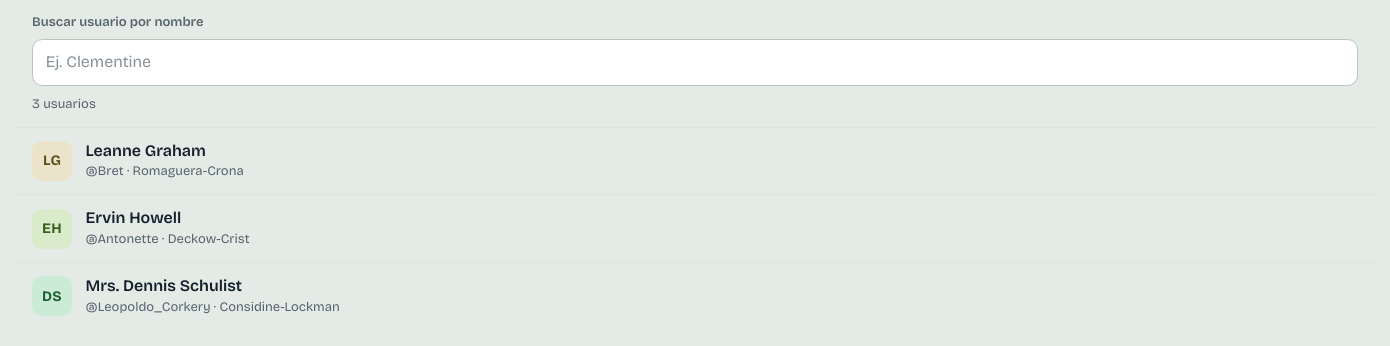
UserList › filtra por nombre al escribir, sin importar mayúsculas
Expected: the number of list items is 3, [12,128,1378,194]; [12,194,1378,262]; [12,262,1378,330]
Type "ERVIN" into the search field labelled "Buscar usuario por nombre" at (695, 62), box [32,39,1358,86]
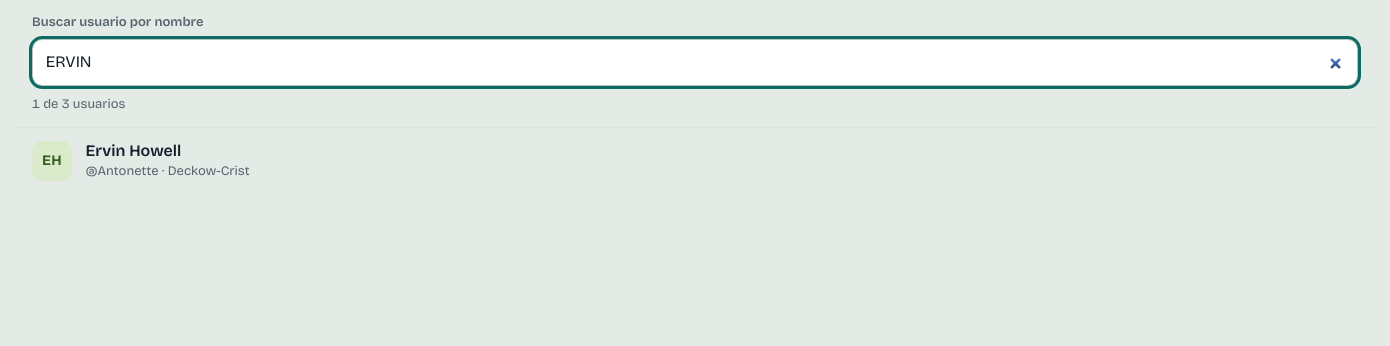
Expected: the number of list items is 1, [12,128,1378,194]
Expected: the button "Leanne Graham" is gone
Expected: the message reads "1 de 3 usuarios", [32,96,126,112]
